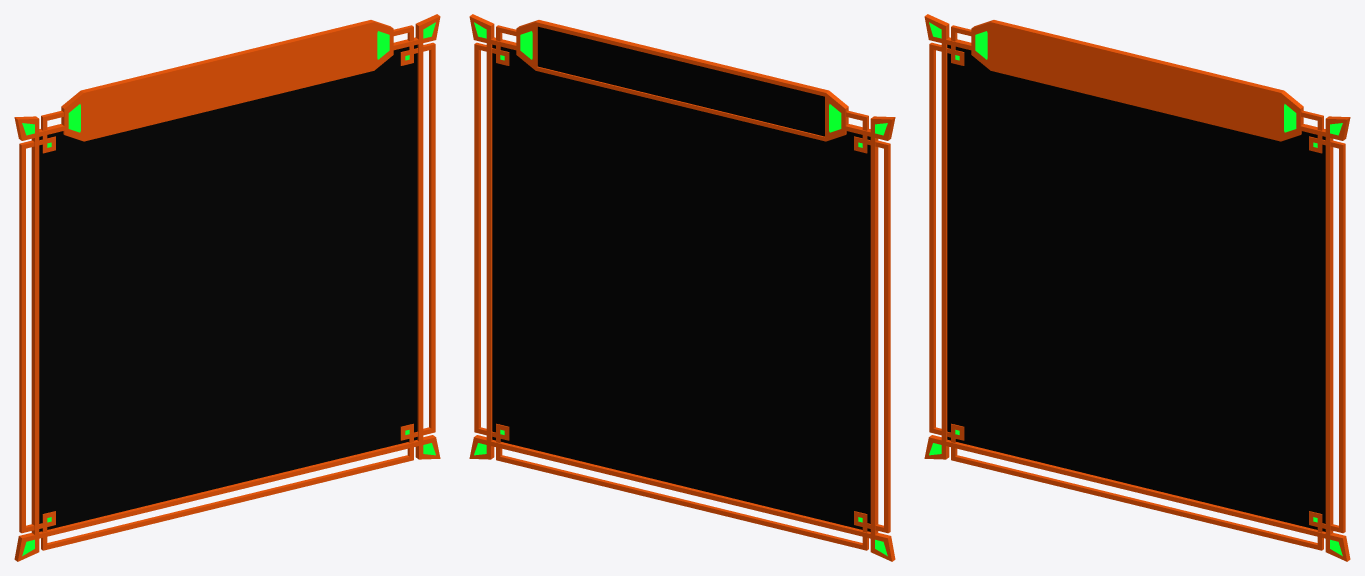
Rendered from Menu3D_Panel_Ornate_Square.glb.
3 renders of one model, left to right at view 1: azimuth 30°, elevation 25°; view 2: azimuth 150°, elevation 25°; view 3: azimuth 330°, elevation 25°, orthographic.
Parts seen in each view (by area): view 1: ornate-display-square; view 2: ornate-display-square; view 3: ornate-display-square.
Part boxes in pixels (<box>): ornate-display-square: <box>14,14,440,561</box>; ornate-display-square: <box>469,14,895,561</box>; ornate-display-square: <box>924,14,1350,561</box>.
Bounding box in the file's own units: 2.23 × 2.29 × 0.03.
